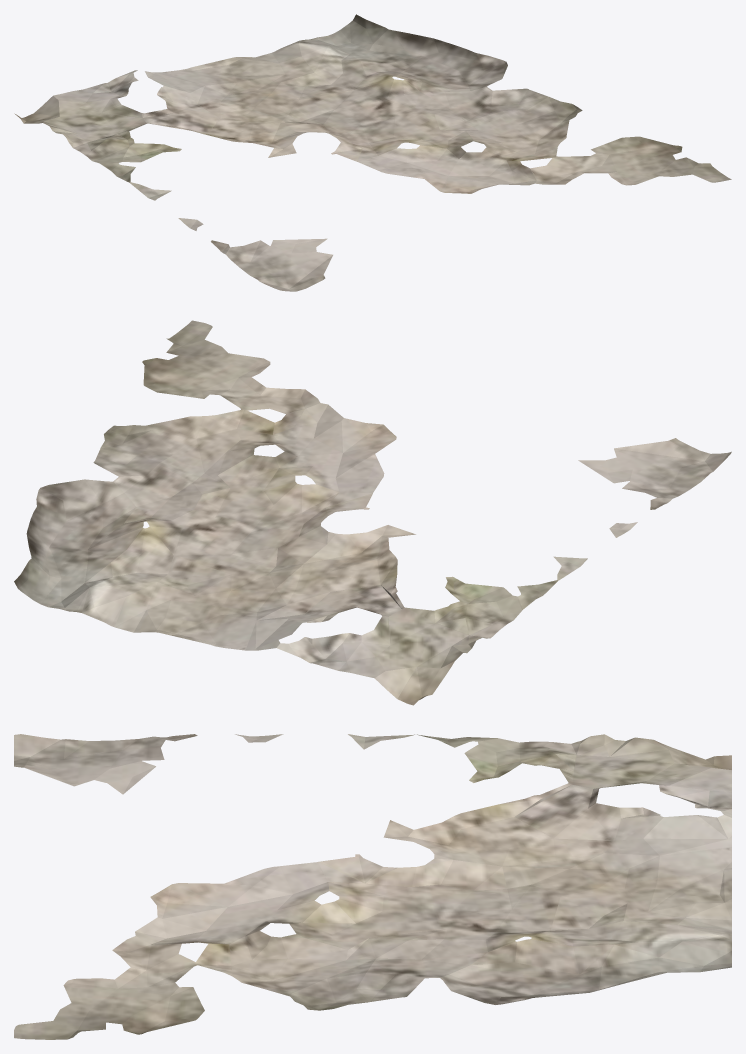
3 views of the same model, one above another, from view 1: azimuth 30°, elevation 25°; view 2: azimuth 150°, elevation 25°; view 3: azimuth 270°, elevation 25° (orthographic). The views are drawn at different scales.
Bounding box in the file's own units: 5.9 × 0.2755 × 5.9.
2 materials, 2 textured.
